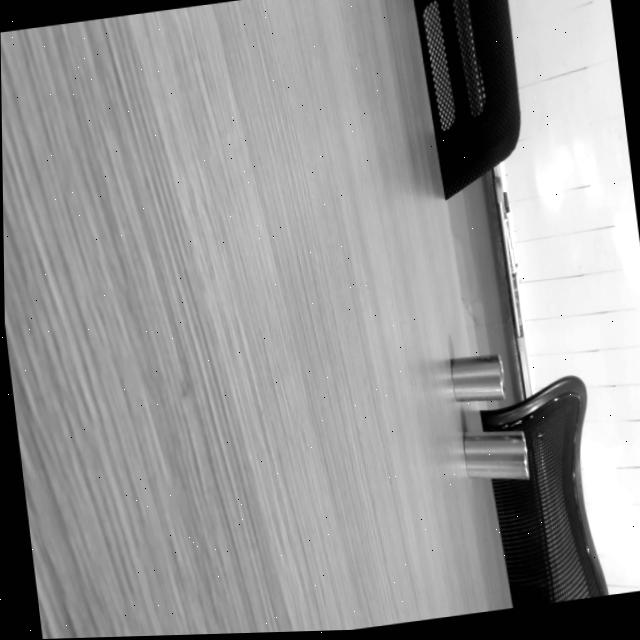Co_Lon: (462, 430, 528, 481)
Co_Nho: (449, 354, 504, 403)
